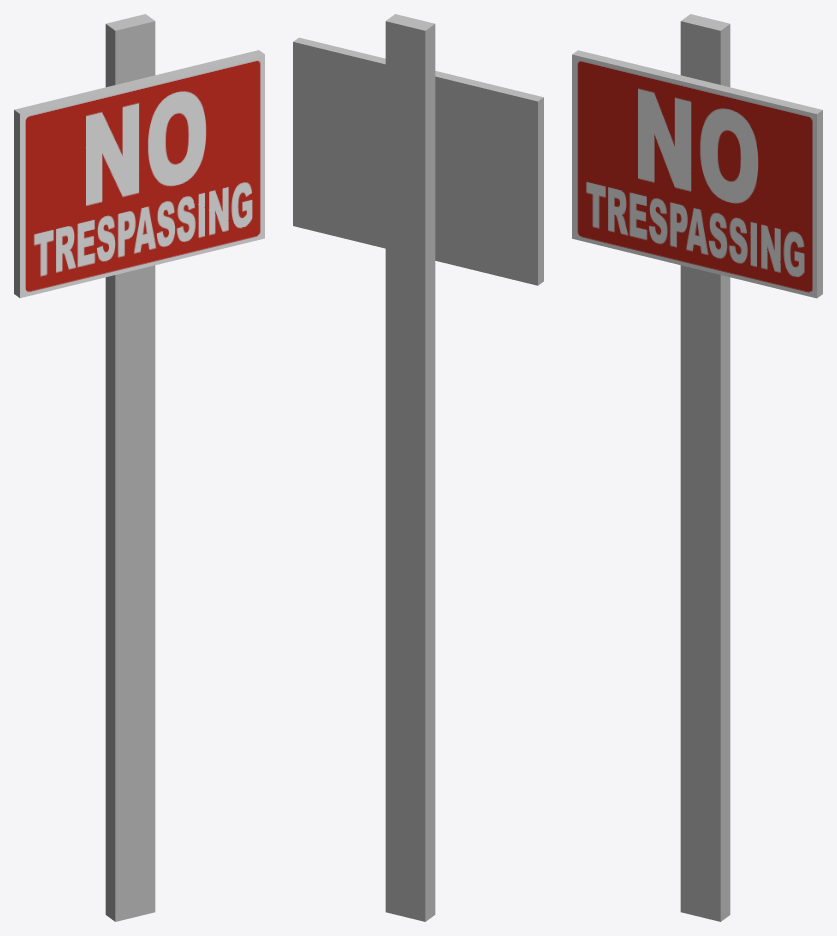
Rendered from Sign_NoTresspassing.fbx.
3 renders of one model, left to right at view 1: azimuth 30°, elevation 25°; view 2: azimuth 150°, elevation 25°; view 3: azimuth 330°, elevation 25°, orthographic.
Visible parts, largest first — view 1: Sign_NoTresspassing; view 2: Sign_NoTresspassing; view 3: Sign_NoTresspassing.
Part boxes in pixels (x1,y1,x2,y2): Sign_NoTresspassing: (14,14,264,921); Sign_NoTresspassing: (293,14,543,921); Sign_NoTresspassing: (572,14,822,921).
Bounding box in the file's own units: 195 × 677 × 22.53.
